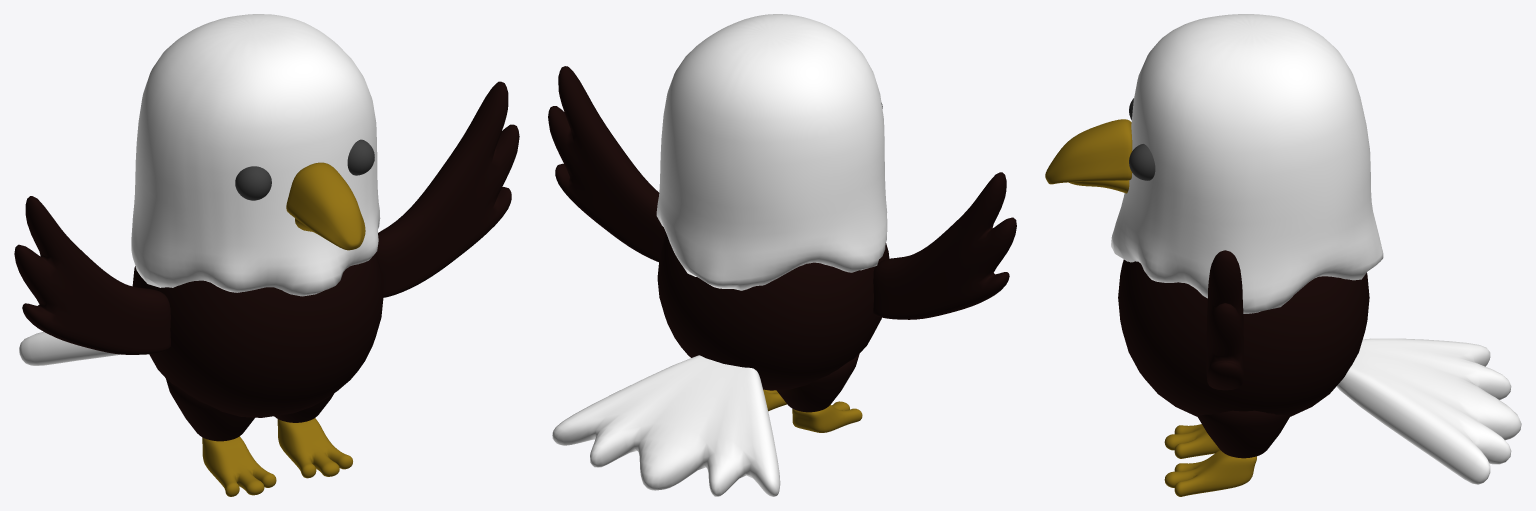
The model's file is Eagle.fbx.
The picture shows the model from 3 angles, left to right: view 1: azimuth 30°, elevation 25°; view 2: azimuth 150°, elevation 25°; view 3: azimuth 270°, elevation 25°; orthographic projection. The views are drawn at different scales.
Visible parts, largest first — view 1: Eagle; view 2: Eagle; view 3: Eagle.
Part boxes in pixels (x1,y1,x2,y2): Eagle: (14, 14, 519, 496); Eagle: (548, 14, 1016, 496); Eagle: (1045, 14, 1521, 496).
Size of the model in its own units: 275 by 225 by 222.
